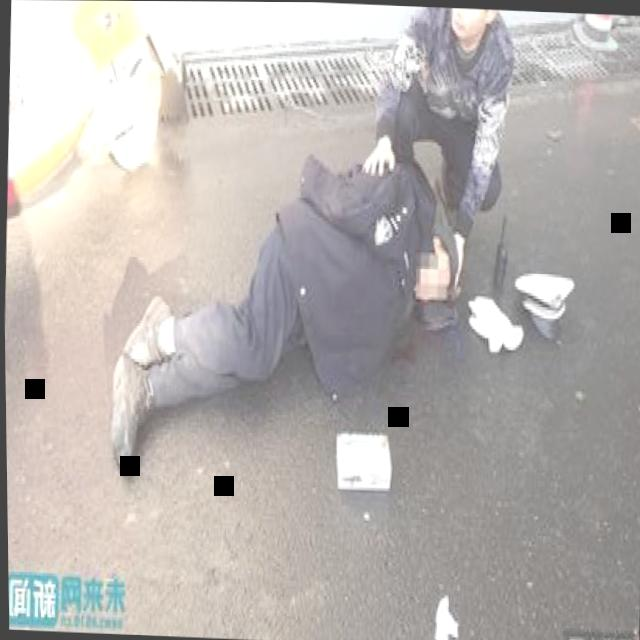Fall-Detected: (100, 129, 477, 499)
